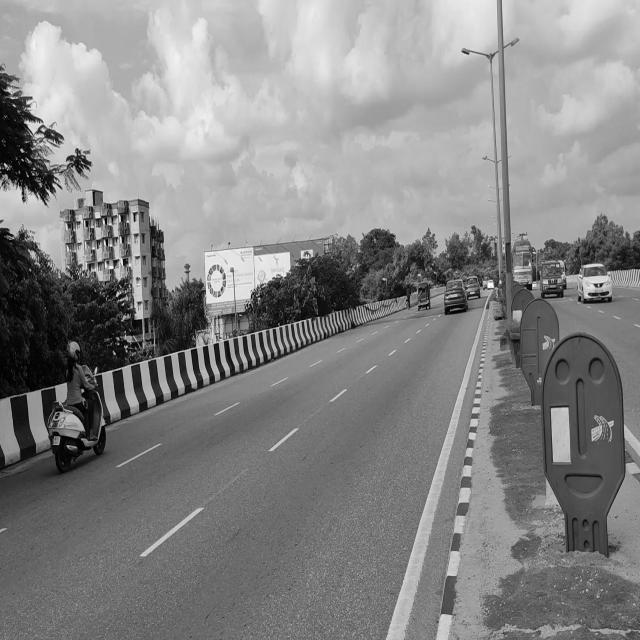bike: (47, 391, 109, 467)
car: (576, 262, 616, 307), (443, 278, 468, 322), (539, 263, 565, 302)
truck: (512, 237, 532, 298)
